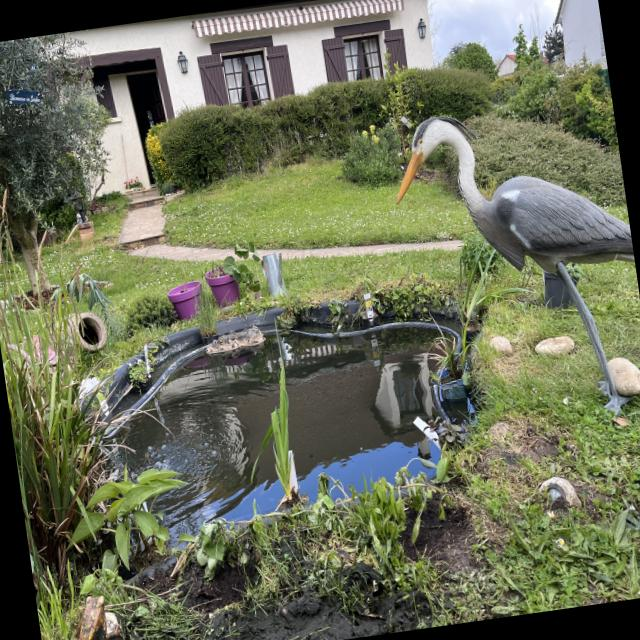Heron: (365, 81, 640, 463)
